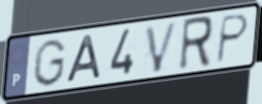4: (108, 26, 136, 79)
A: (65, 32, 103, 85)
G: (30, 37, 68, 89)
P: (214, 12, 252, 66)
R: (176, 13, 215, 74)
V: (143, 19, 180, 76)
